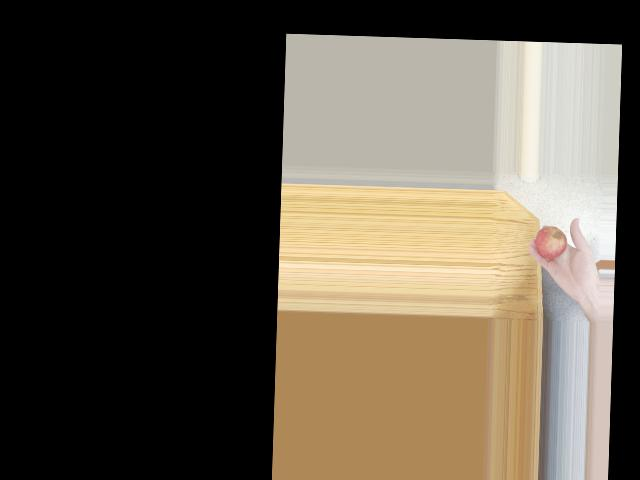apple: (535, 225, 570, 263)
